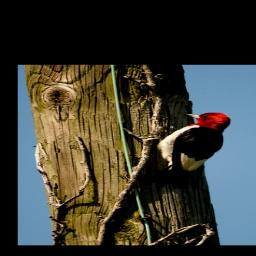Woodpecker: (137, 112, 232, 189)
